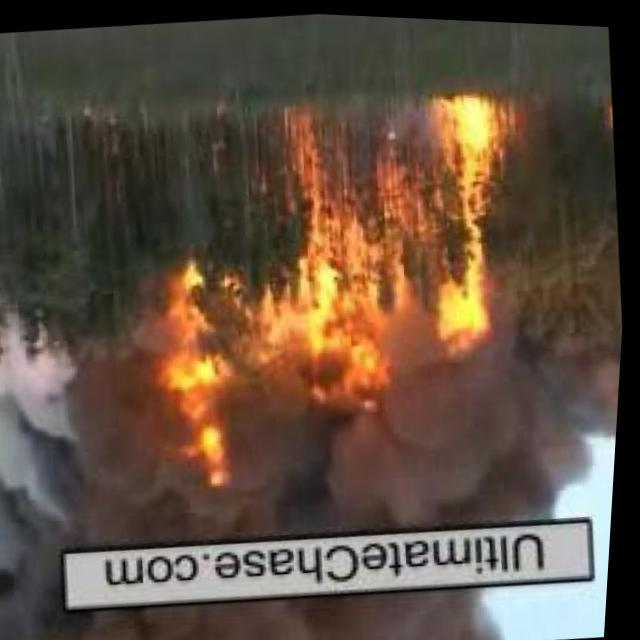Fire: (264, 92, 537, 397), (132, 259, 259, 501), (582, 81, 616, 121)
